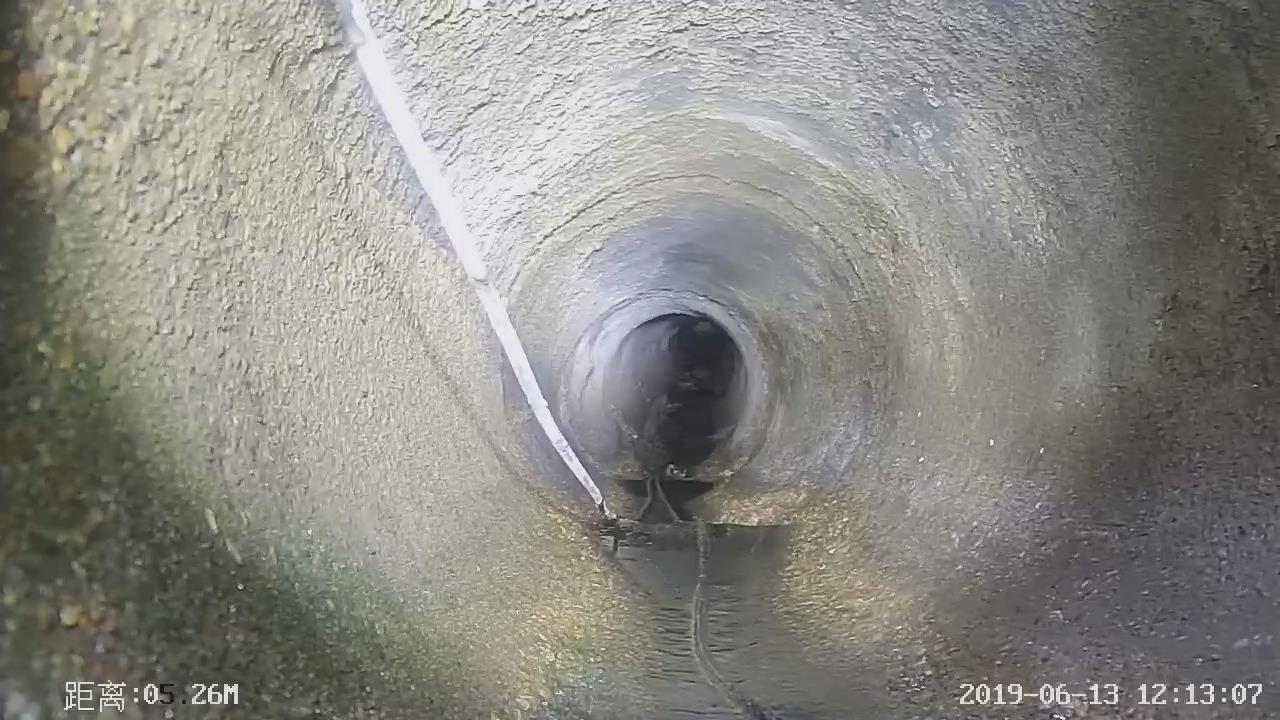YWCR: (337, 0, 602, 504)
